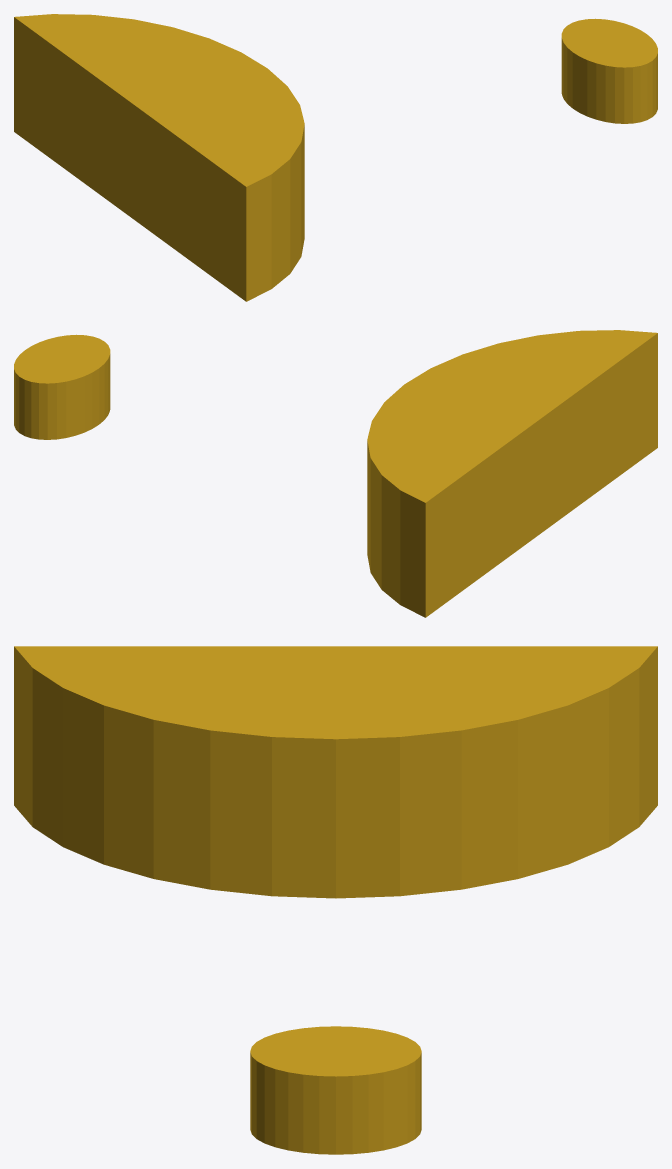
The model's file is YellowRoomPlatform.fbx.
3 views of the same model, one above another, from view 1: azimuth 30°, elevation 25°; view 2: azimuth 150°, elevation 25°; view 3: azimuth 270°, elevation 25° (orthographic). The views are drawn at different scales.
Visible parts, largest first — view 1: Stage, Platform; view 2: Stage, Platform; view 3: Stage, Platform.
Part boxes in pixels (x1,y1,x2,y2): Stage: (14, 14, 304, 301); Platform: (561, 18, 657, 123); Stage: (367, 330, 657, 617); Platform: (14, 334, 110, 439); Stage: (14, 646, 657, 898); Platform: (250, 1026, 421, 1154).
Size of the model in its own units: 450 by 95.55 by 350.
